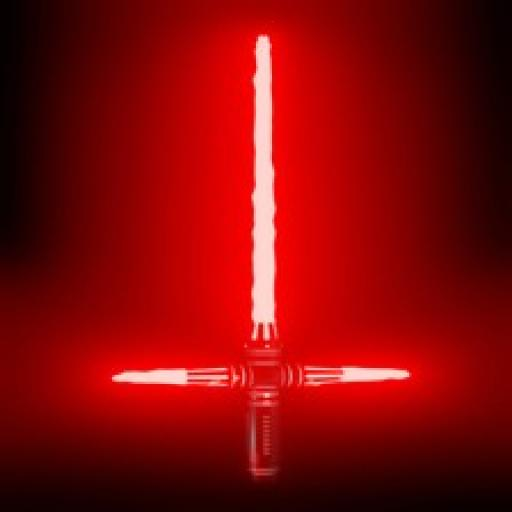sith saber: (109, 29, 416, 512)
